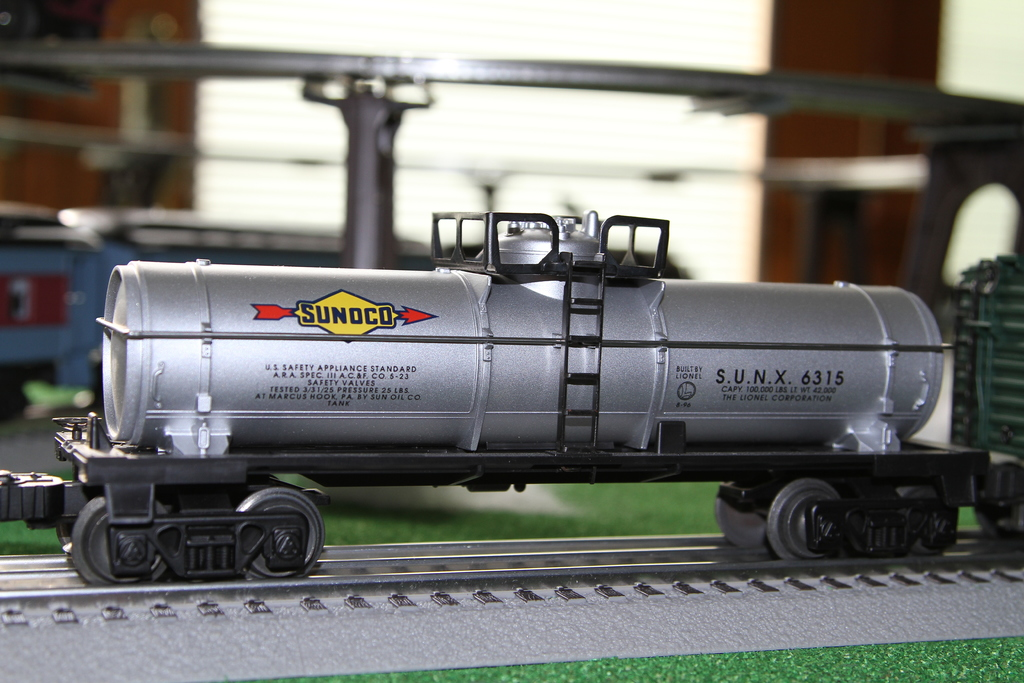train: (0, 206, 1023, 588)
